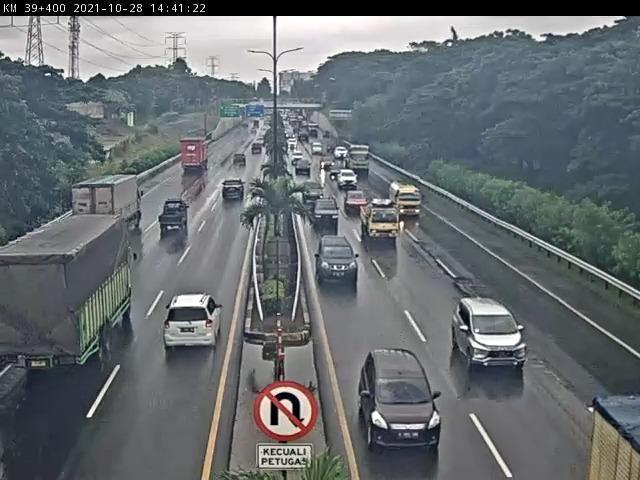car: (358, 348, 444, 451), (451, 297, 528, 370), (163, 295, 224, 352), (315, 236, 359, 286), (158, 201, 190, 234), (307, 200, 341, 231), (222, 179, 246, 204), (343, 192, 369, 215), (303, 180, 325, 203)
truck: (1, 215, 139, 372), (70, 174, 145, 234), (361, 199, 402, 244), (390, 181, 425, 218)
